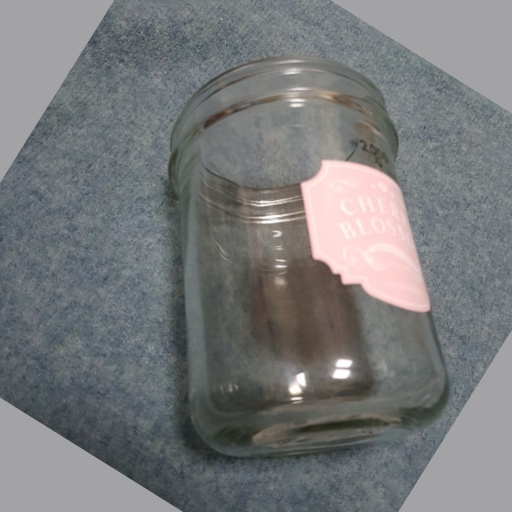Glass_5: (163, 55, 454, 454)
